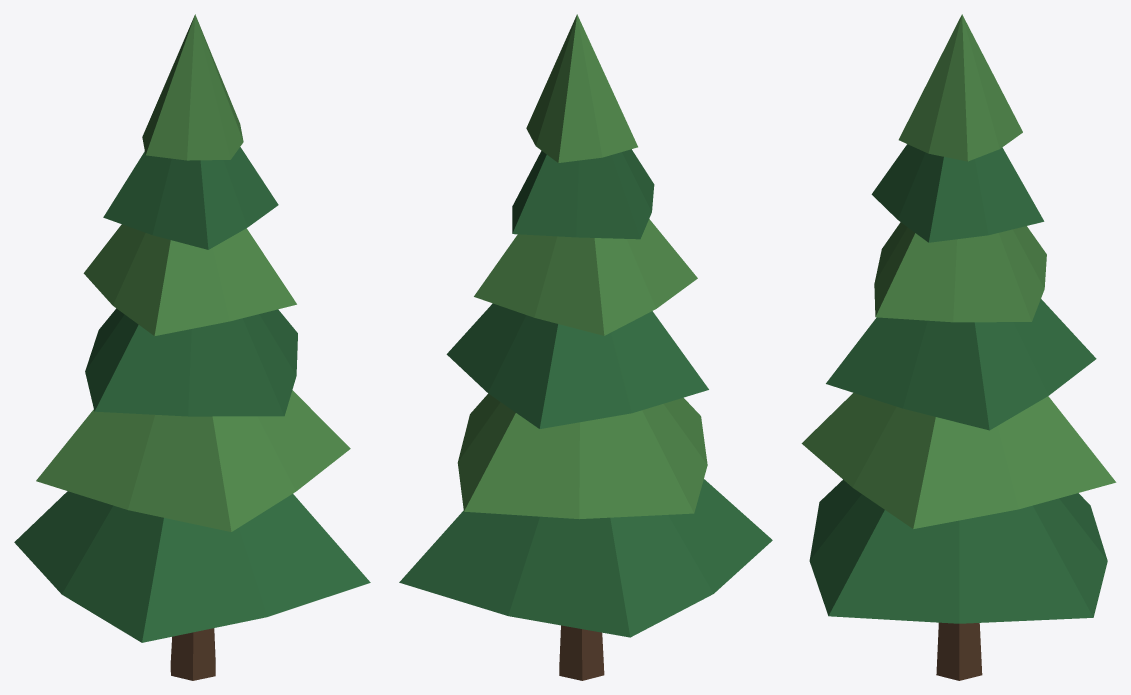
The model's file is tree_pine_a.glb.
The picture shows the model from 3 angles, left to right: view 1: azimuth 30°, elevation 25°; view 2: azimuth 150°, elevation 25°; view 3: azimuth 270°, elevation 25°; orthographic projection.
Parts seen in each view (by area): view 1: Canopy, Trunk; view 2: Canopy, Trunk; view 3: Canopy, Trunk.
Boxes of the visible parts, bbox=[...] form: Canopy: bbox=[14, 14, 370, 642]; Trunk: bbox=[170, 628, 215, 680]; Canopy: bbox=[399, 14, 772, 637]; Trunk: bbox=[559, 625, 604, 680]; Canopy: bbox=[801, 14, 1116, 623]; Trunk: bbox=[936, 622, 982, 680].
Bounding box in the file's own units: 4.33 × 10.06 × 4.37.
